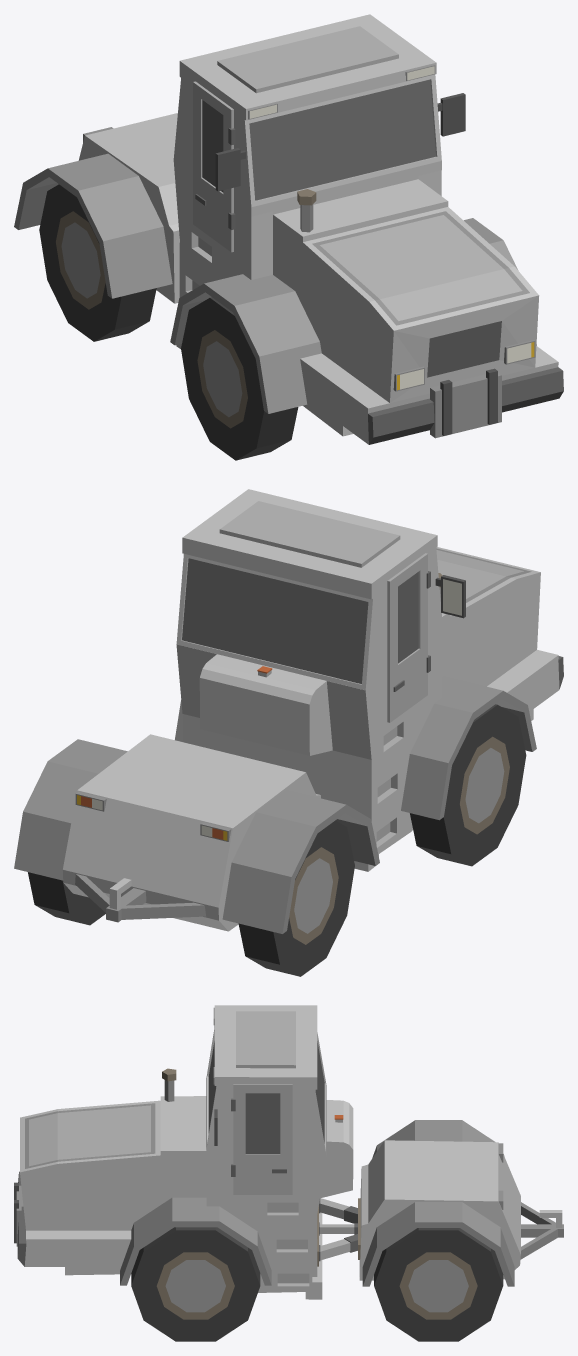
File: kar2.fbx
The picture shows the model from 3 angles, top to bottom: view 1: azimuth 30°, elevation 25°; view 2: azimuth 150°, elevation 25°; view 3: azimuth 270°, elevation 25°; orthographic projection. The views are drawn at different scales.
Visible parts, largest first — view 1: Cube, Cylinder, Cylinder_1; view 2: Cube, Cylinder, Cylinder_1, Cylinder_5; view 3: Cube, Cylinder_2, Cylinder_5.
Part boxes in pixels (box(x1,y1,x2,y2)): Cube: box(14, 14, 563, 444); Cylinder: box(181, 297, 298, 460); Cylinder_1: box(39, 184, 156, 341); Cube: box(14, 489, 563, 933); Cylinder: box(410, 704, 526, 866); Cylinder_1: box(238, 820, 354, 976); Cylinder_5: box(28, 872, 105, 925); Cube: box(14, 1005, 563, 1299); Cylinder_2: box(131, 1227, 260, 1341); Cylinder_5: box(374, 1228, 503, 1341).
Size of the model in its own units: 242 by 280 by 550.
